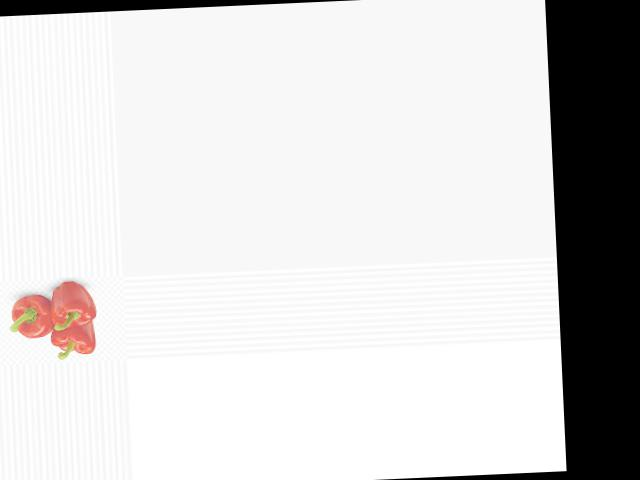bell_pepper: (5, 289, 59, 344)
